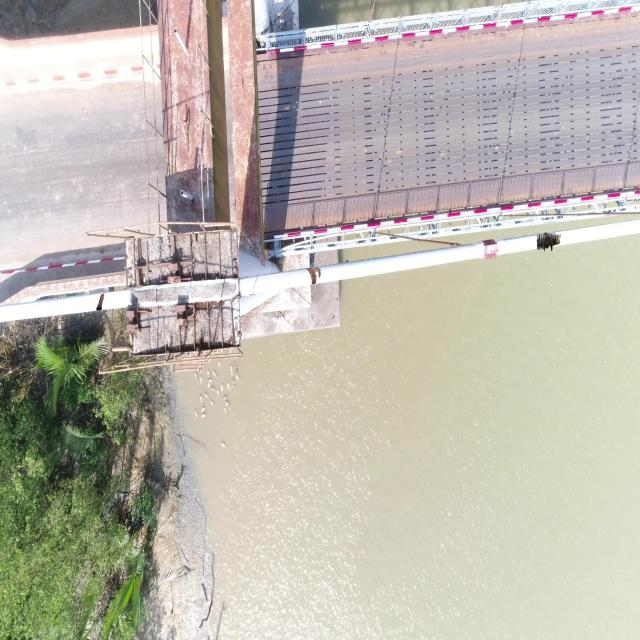corrosion: (537, 232, 561, 252), (306, 268, 321, 284), (96, 293, 104, 311)
